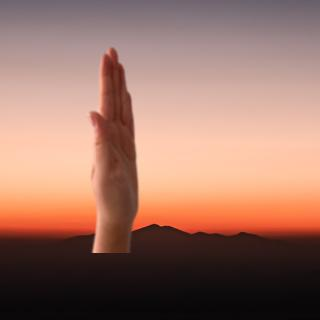Right: (80, 35, 146, 229)
